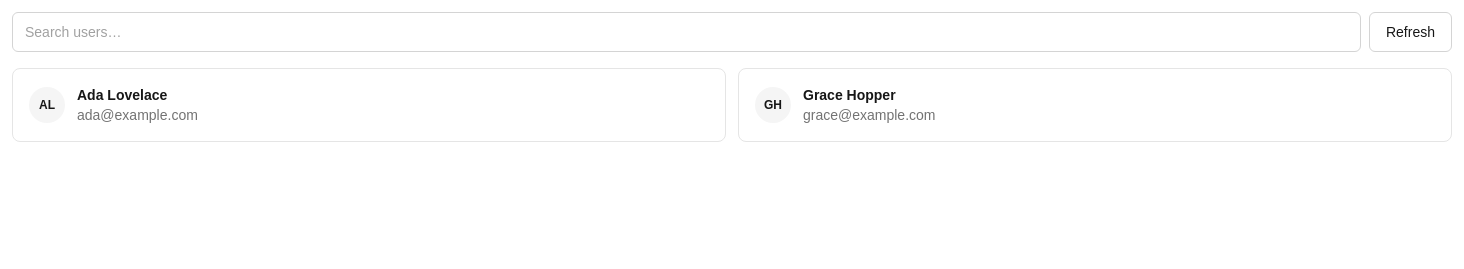
Test: UserSearch › renders the detail panel for the user whose card is selected
Expected: the heading "Ada Lovelace" is shown, x1=77 y1=87 x2=167 y2=103
What coordinates should you click on to do the following:
click the button "AL Ada Lovelace ada@example.com"
I would click on:
 (369, 105)
Its box is x1=12 y1=68 x2=726 y2=142.
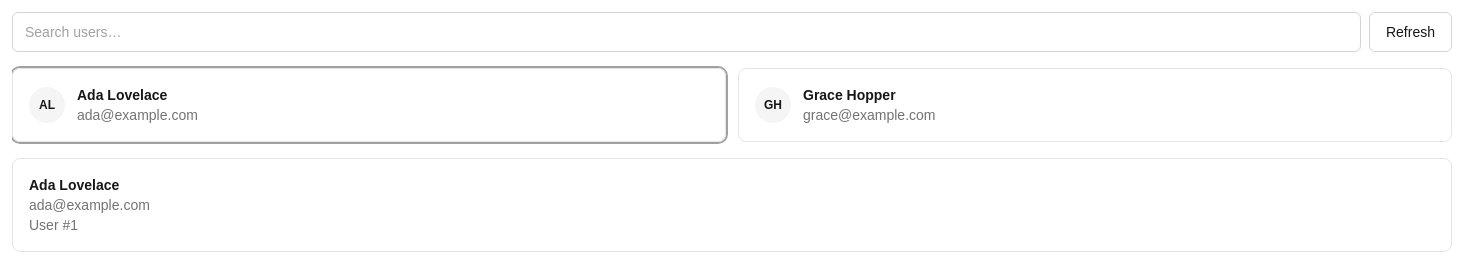
Result: the text "User #1" is shown at x1=29 y1=217 x2=78 y2=233
